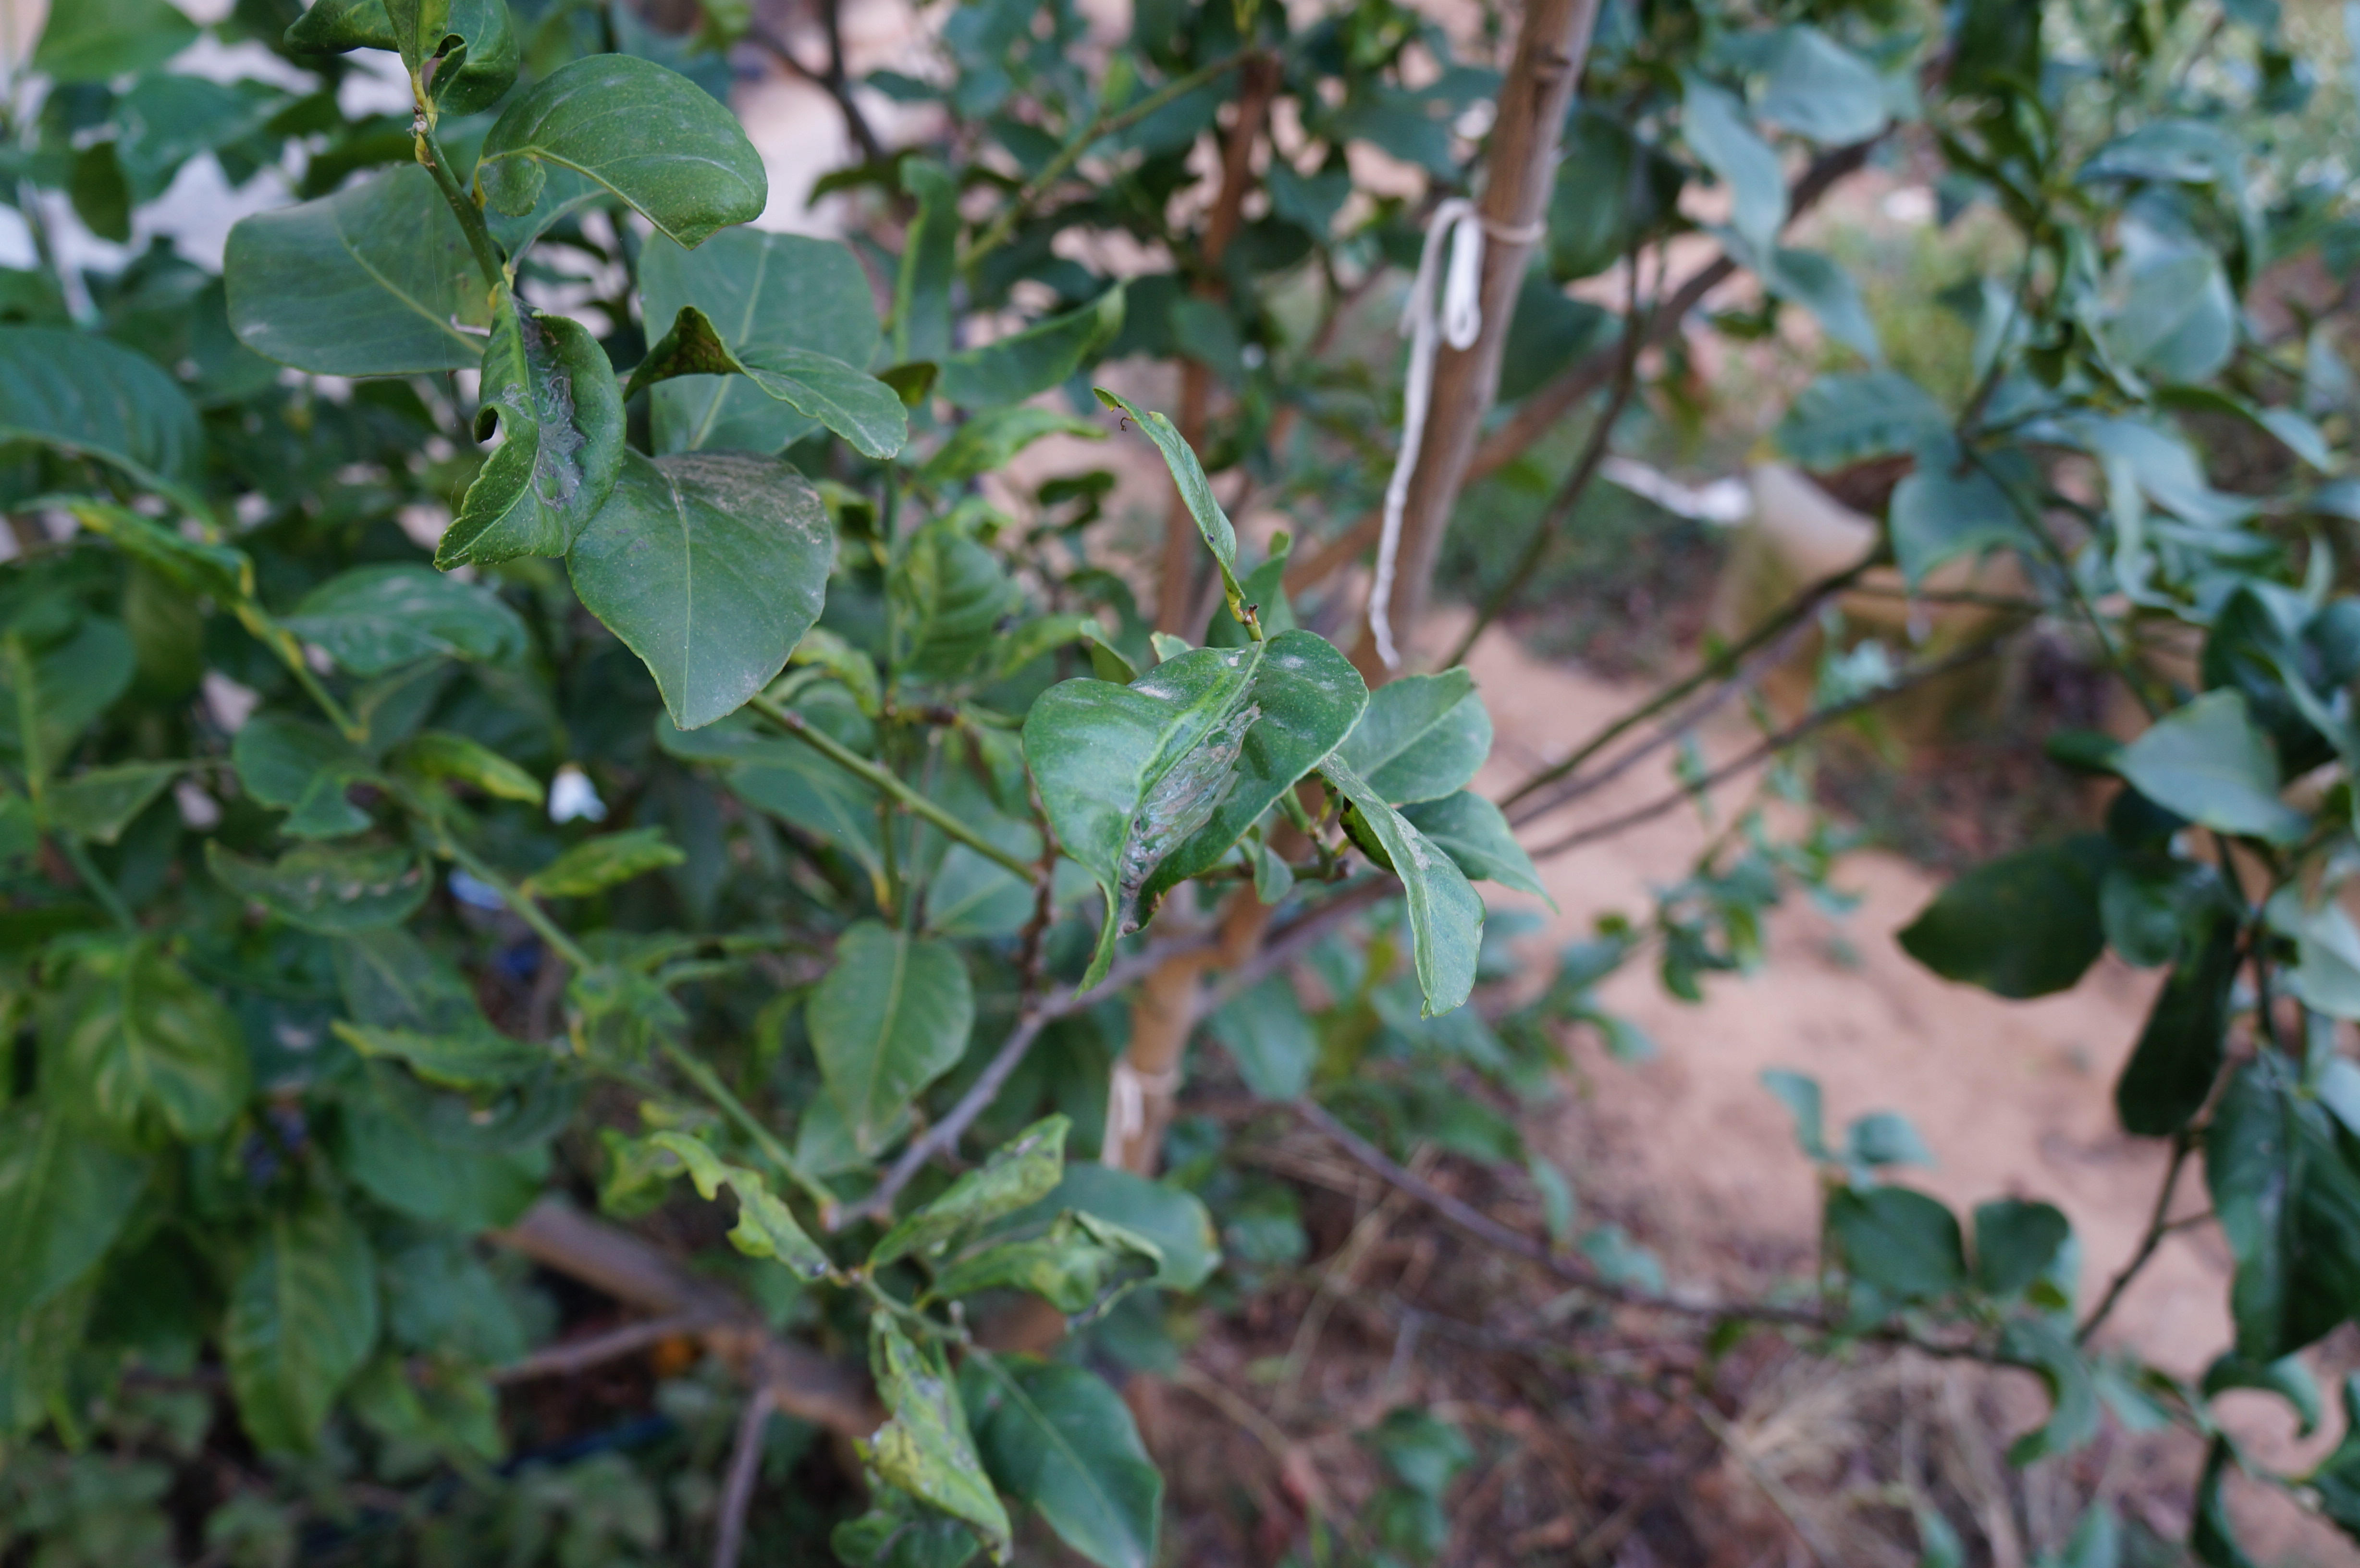damage: (1099, 684, 1286, 945), (511, 320, 586, 506)
